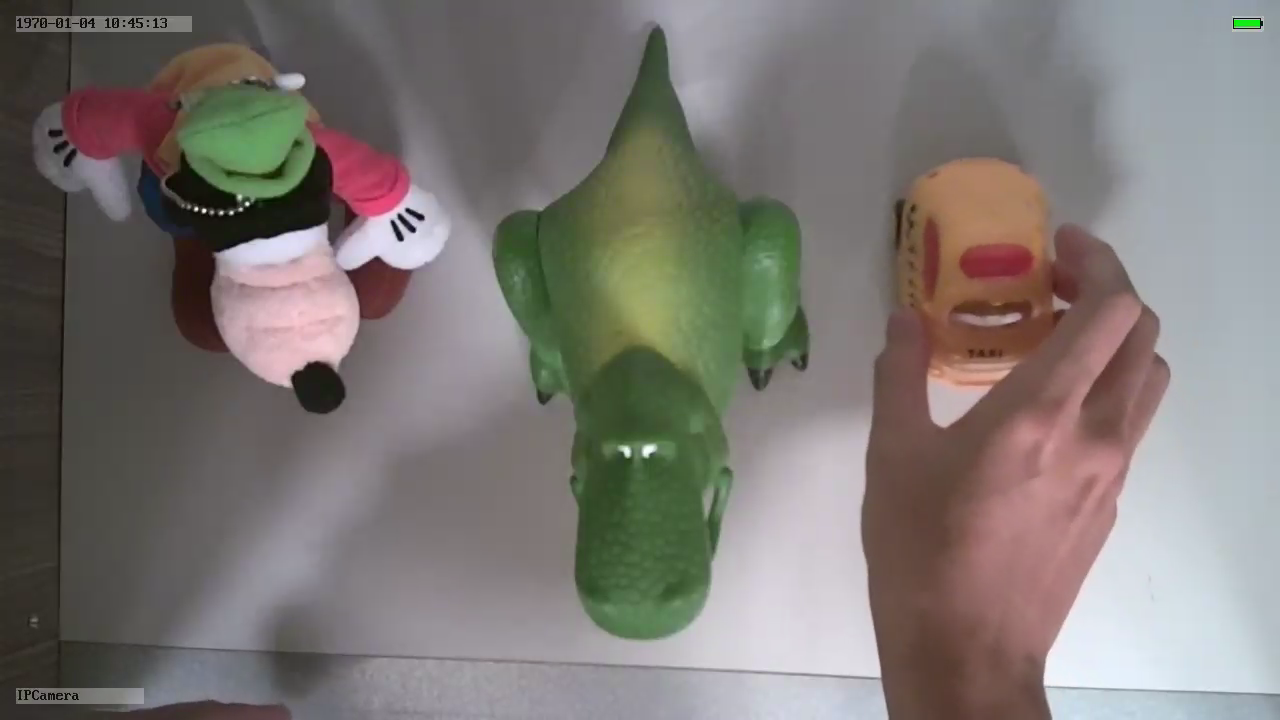goofy: (30, 39, 453, 412)
